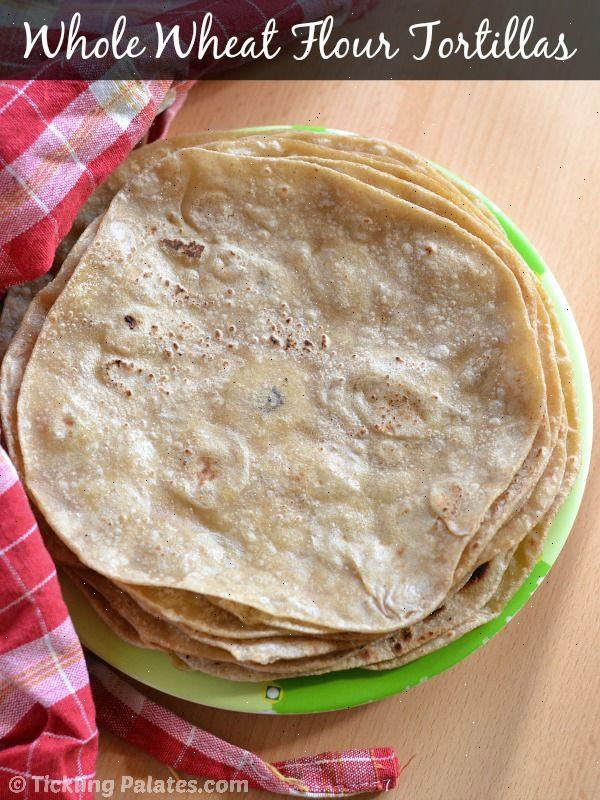roti phulka: (92, 130, 585, 682)
